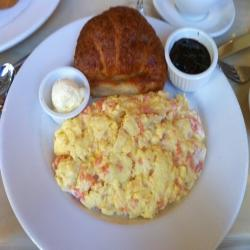bread: (68, 4, 170, 94)
omelette: (50, 95, 211, 227)
